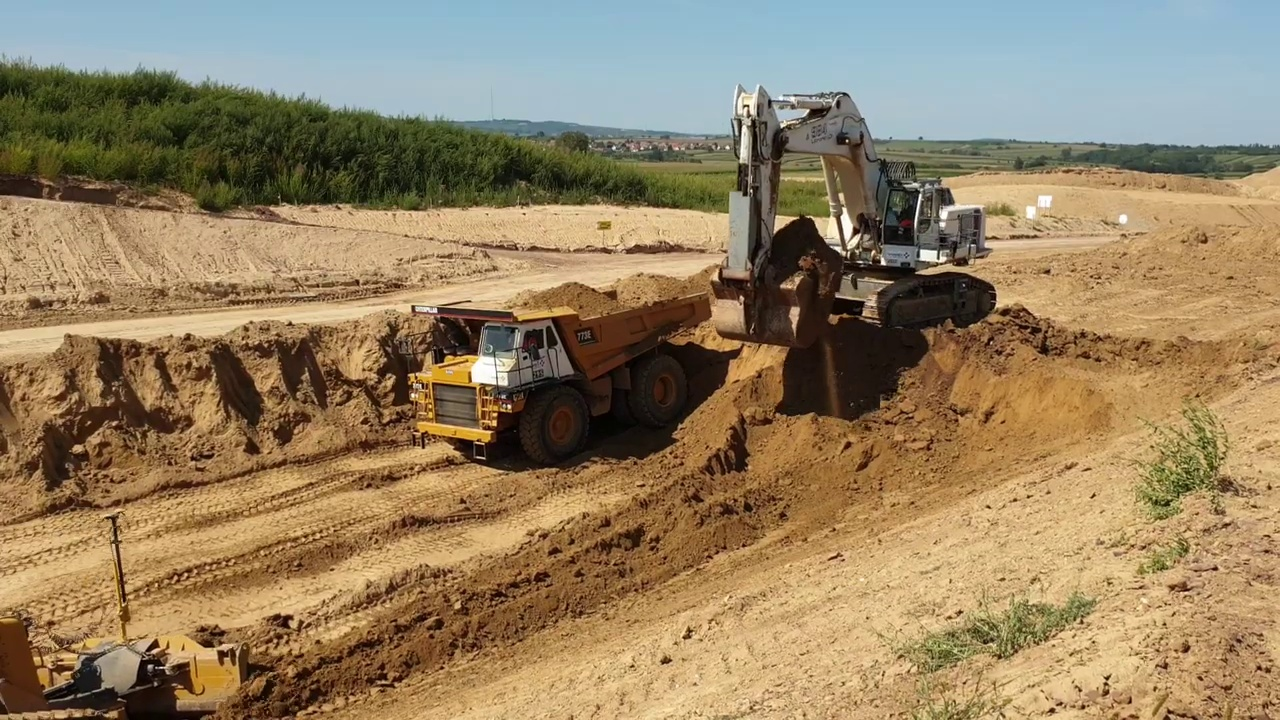bulldozer: (2, 506, 265, 720)
excavator: (714, 78, 1005, 351)
truck: (405, 290, 716, 472)
